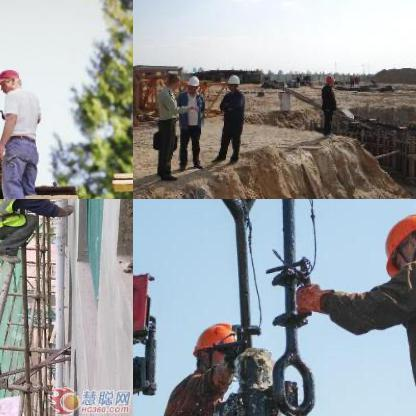Helmet: (184, 314, 238, 378), (376, 204, 415, 274), (0, 64, 22, 94), (185, 76, 199, 92), (226, 73, 238, 89), (324, 74, 334, 86)
